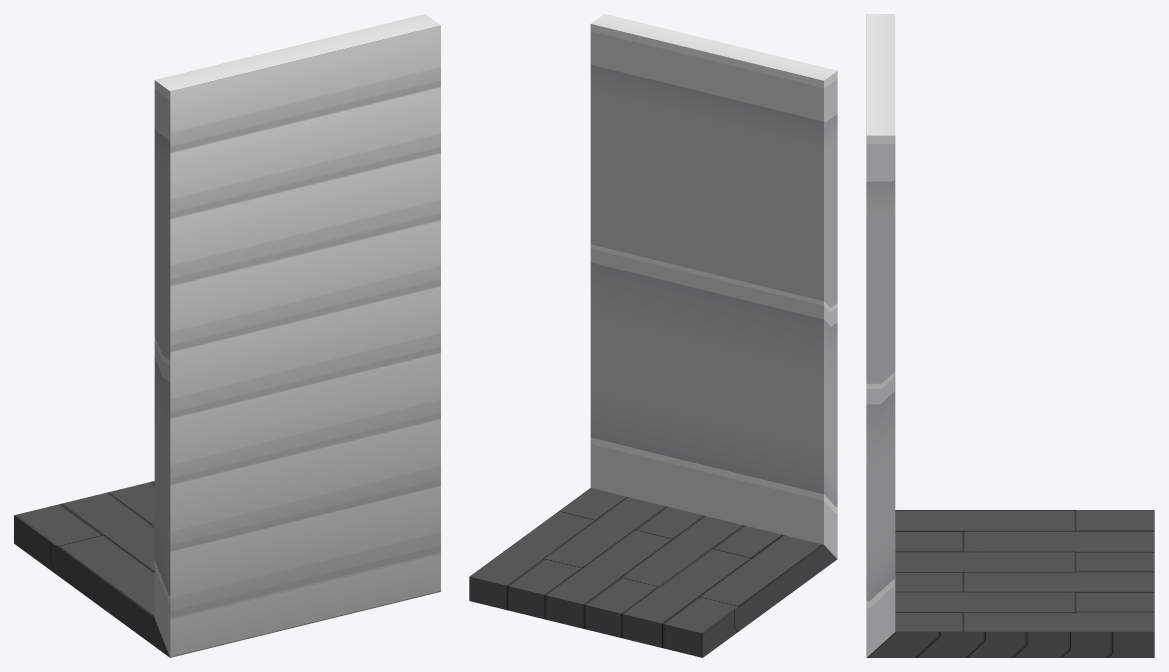
Rendered from building_02_edge_tile.obj.
3 renders of one model, left to right at view 1: azimuth 30°, elevation 25°; view 2: azimuth 150°, elevation 25°; view 3: azimuth 270°, elevation 25°, orthographic. The views are drawn at different scales.
Parts seen in each view (by area): view 1: Edge_Cube.001; view 2: Edge_Cube.001; view 3: Edge_Cube.001.
Part boxes in pixels (x1,y1,x2,y2): Edge_Cube.001: (14, 14, 440, 657); Edge_Cube.001: (469, 14, 837, 657); Edge_Cube.001: (866, 14, 1154, 657).
Bounding box in the file's own units: 2 × 4 × 2.
